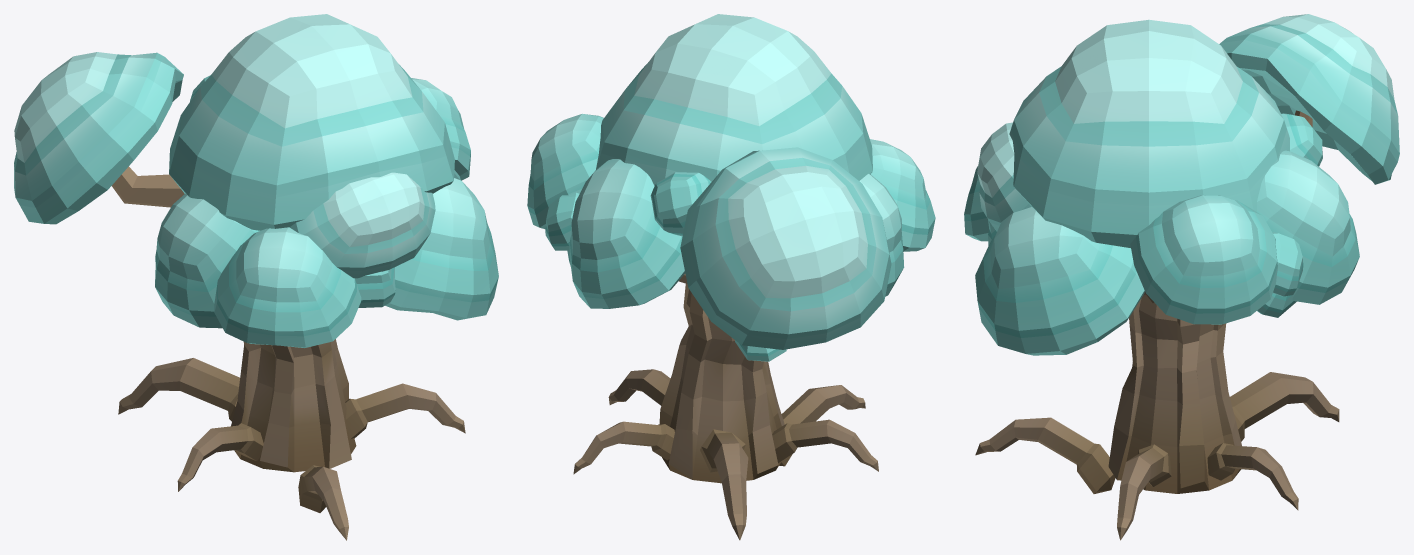
File: Tree_Large_G.fbx
3 views of the same model, side by side, from view 1: azimuth 30°, elevation 25°; view 2: azimuth 150°, elevation 25°; view 3: azimuth 270°, elevation 25° (orthographic). The views are drawn at different scales.
Visible parts, largest first — view 1: Tree_Large_G; view 2: Tree_Large_G; view 3: Tree_Large_G.
Boxes of the visible parts, <box> form: Tree_Large_G: <box>14,14,498,540</box>; Tree_Large_G: <box>527,14,935,540</box>; Tree_Large_G: <box>964,14,1399,540</box>.
Bounding box in the file's own units: 279 × 317 × 265.
